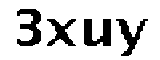3: (11, 7, 43, 51)
u: (81, 11, 113, 52)
x: (45, 16, 78, 50)
y: (115, 13, 152, 60)
